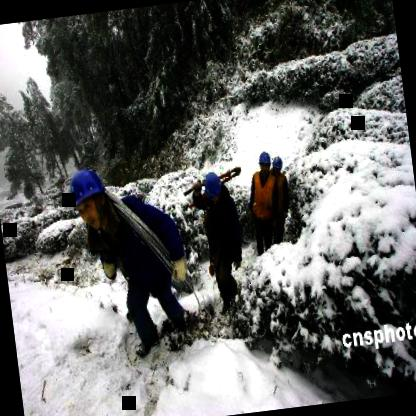helmet: (63, 162, 114, 235), (200, 166, 227, 209), (256, 149, 274, 177), (270, 150, 286, 178)
